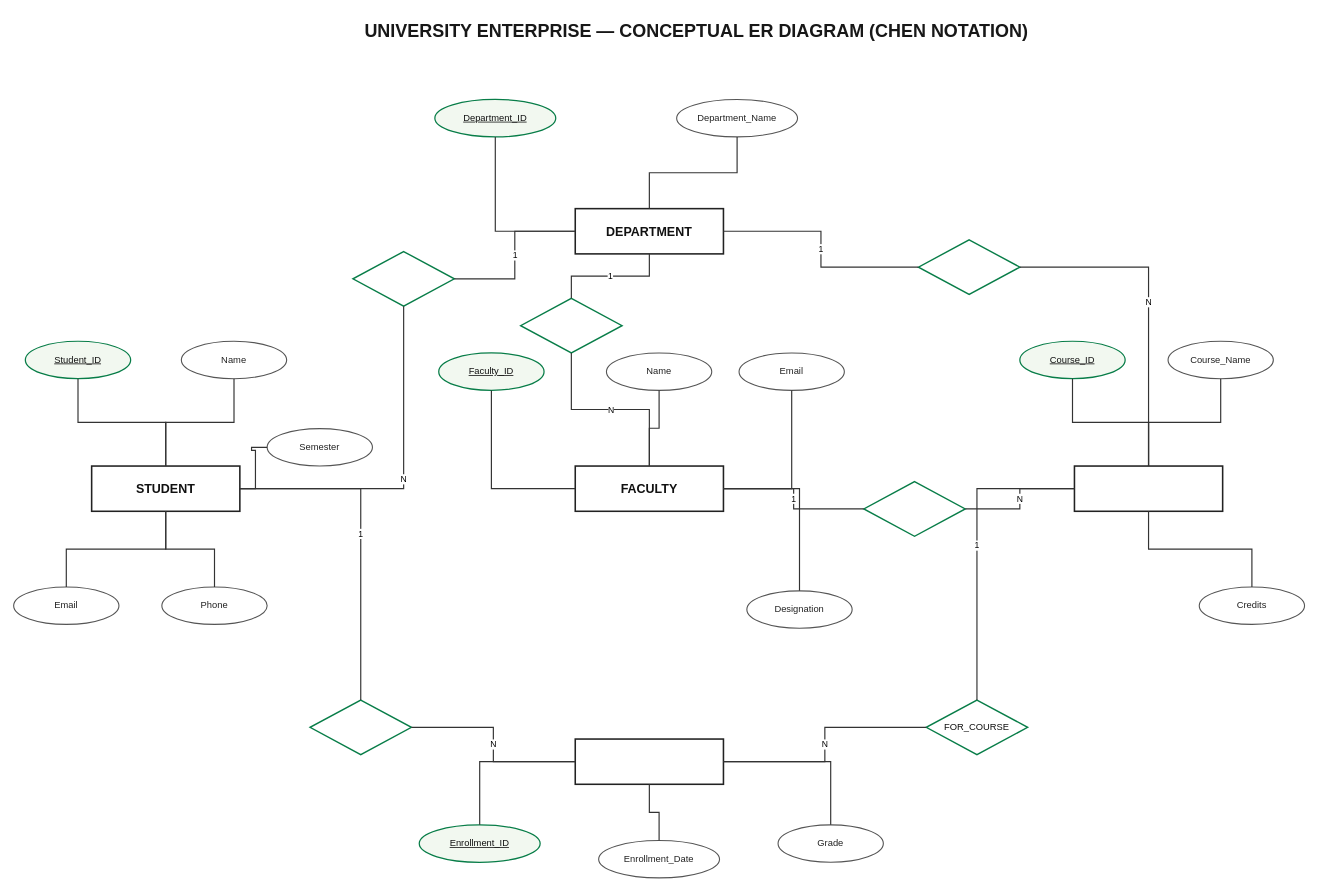
The diagram is 1319 pixels wide and 892 high, and some of its shapes have lost their labels. Here are the shapes that lost their labels. From the top down, the box of each, then its label:
(352, 250, 455, 306): BELONGS_TO
(917, 239, 1020, 295): OFFERS
(520, 297, 622, 353): EMPLOYS
(1073, 465, 1223, 512): COURSE
(863, 481, 966, 537): TEACHES
(309, 699, 412, 755): MAKES
(574, 738, 724, 785): ENROLLMENT
